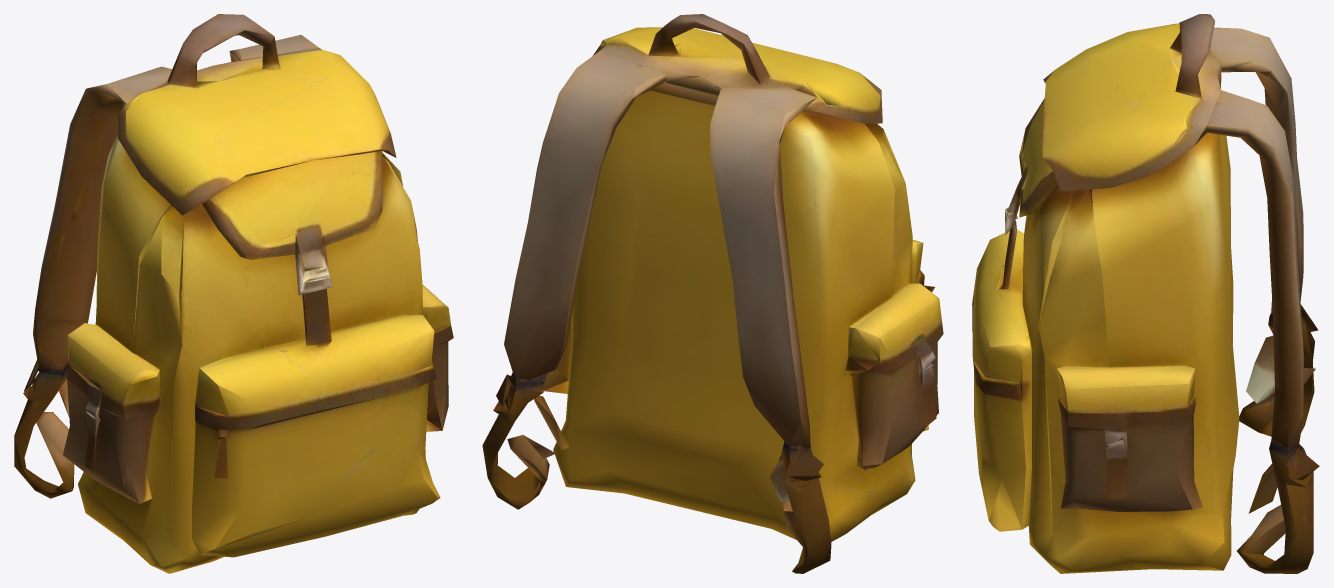
File: backpack.glb
The picture shows the model from 3 angles, left to right: view 1: azimuth 30°, elevation 25°; view 2: azimuth 150°, elevation 25°; view 3: azimuth 270°, elevation 25°; orthographic projection. The views are drawn at different scales.
Visible parts, largest first — view 1: model; view 2: model; view 3: model.
Boxes of the visible parts, x1,y1,x2,y2 form: model: (14, 14, 453, 573); model: (482, 14, 943, 573); model: (972, 14, 1319, 573).
Size of the model in its own units: 1.48 by 1.9 by 1.22.
1 material, 1 textured.
